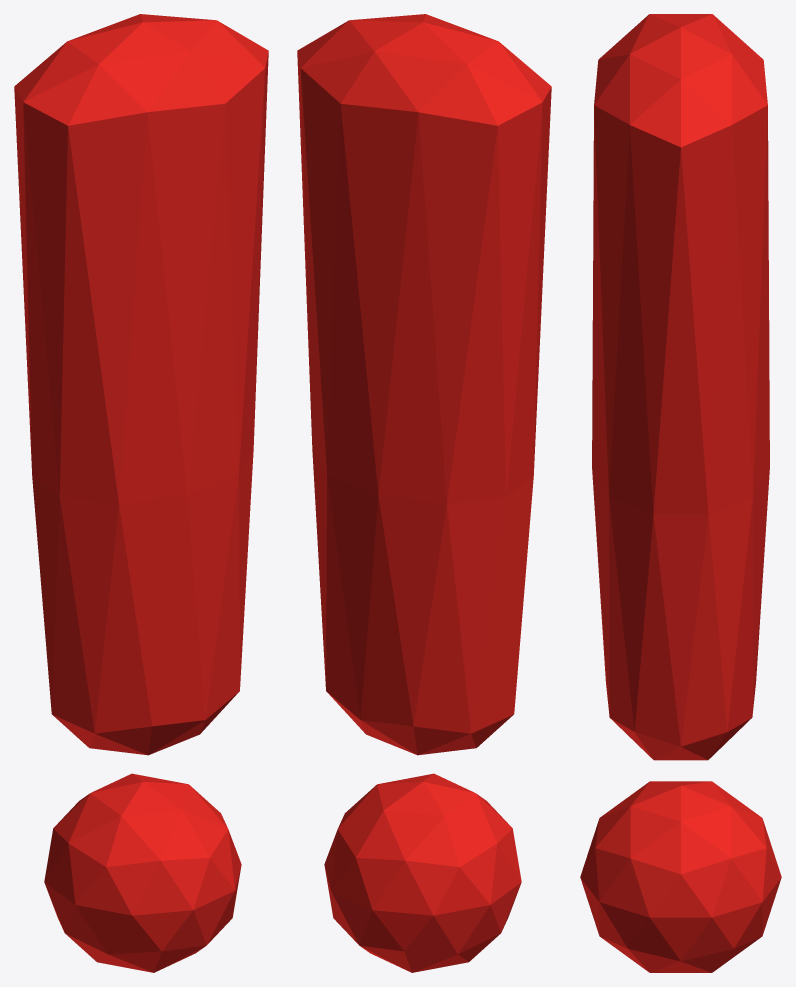
File: Exclaim.fbx
The picture shows the model from 3 angles, left to right: view 1: azimuth 30°, elevation 25°; view 2: azimuth 150°, elevation 25°; view 3: azimuth 270°, elevation 25°; orthographic projection.
Parts seen in each view (by area): view 1: Low_poly_exclamations; view 2: Low_poly_exclamations; view 3: Low_poly_exclamations.
Boxes of the visible parts, x1=… form: Low_poly_exclamations: x1=14, y1=14, x2=268, y2=972; Low_poly_exclamations: x1=297, y1=14, x2=551, y2=972; Low_poly_exclamations: x1=580, y1=14, x2=781, y2=972.
Bounding box in the file's own units: 1.45 × 5.32 × 1.03.
